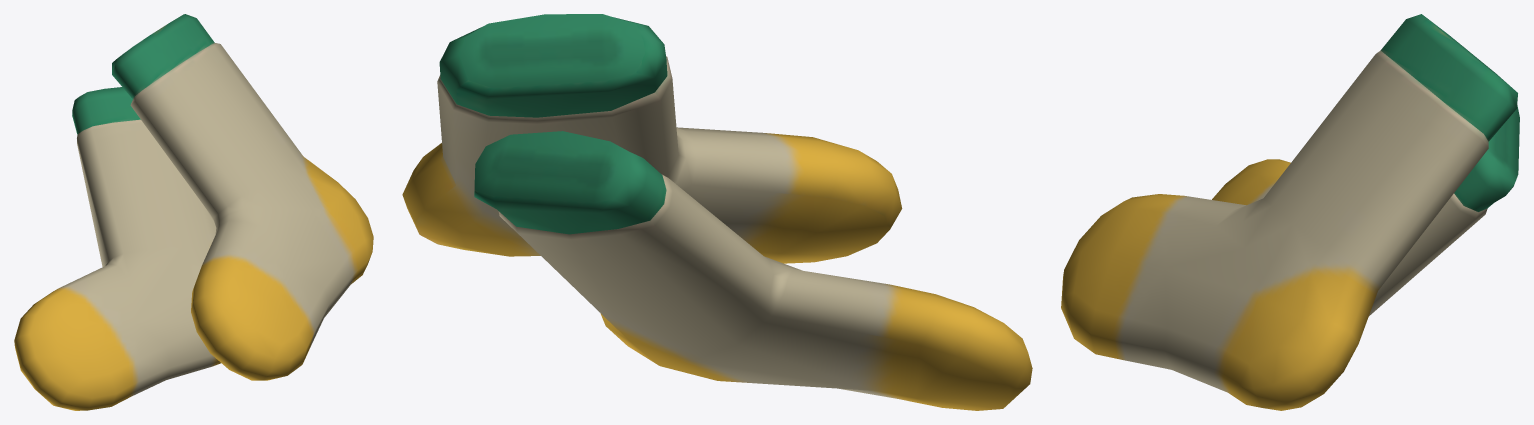
Rendered from UnitIconSocks.glb.
The picture shows the model from 3 angles, left to right: view 1: azimuth 30°, elevation 25°; view 2: azimuth 150°, elevation 25°; view 3: azimuth 270°, elevation 25°; orthographic projection. The views are drawn at different scales.
Parts seen in each view (by area): view 1: Body__mBody; view 2: Body__mBody; view 3: Body__mBody.
Boxes of the visible parts, bbox=[...] form: Body__mBody: bbox=[14, 14, 373, 410]; Body__mBody: bbox=[402, 14, 1032, 410]; Body__mBody: bbox=[1061, 14, 1519, 410].
Bounding box in the file's own units: 4.36 × 3.15 × 3.59.
1 material, 1 textured.
